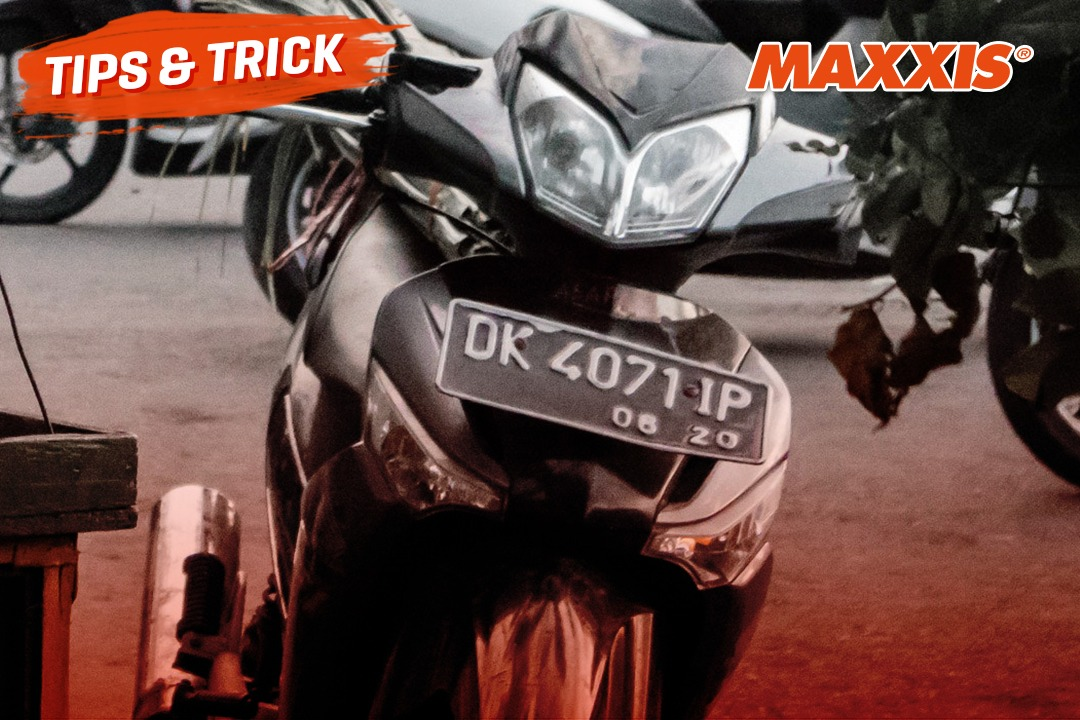plate: (437, 300, 767, 463)
